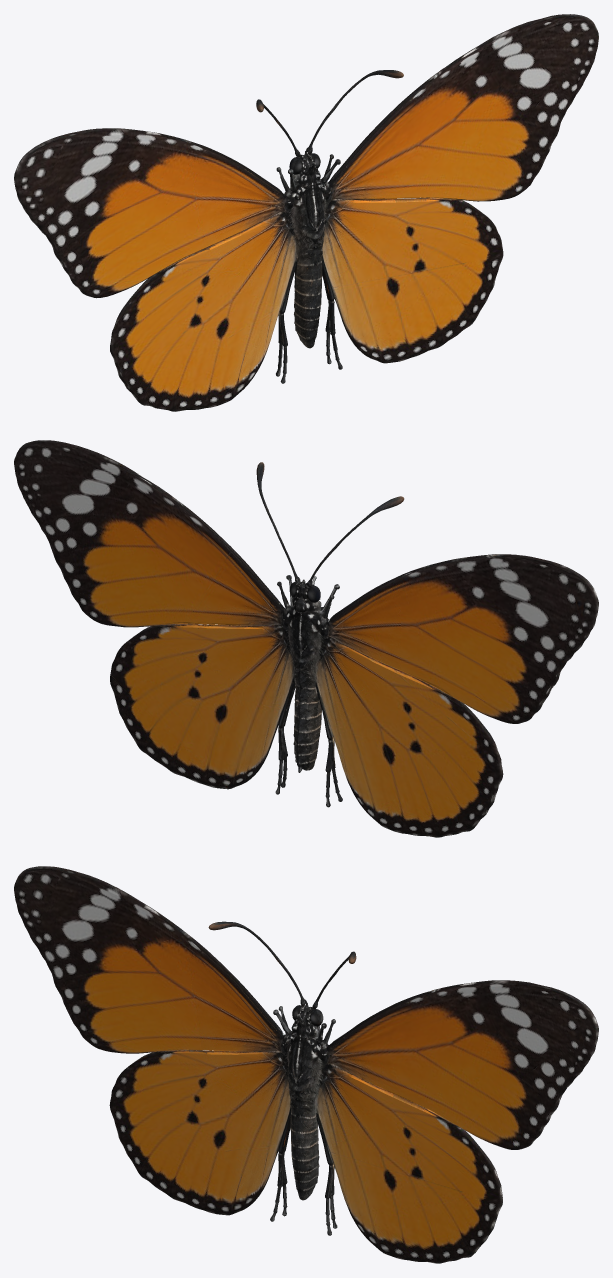
The model's file is african-monarch.glb.
The picture shows the model from 3 angles, top to bottom: view 1: azimuth 30°, elevation 25°; view 2: azimuth 150°, elevation 25°; view 3: azimuth 330°, elevation 25°; orthographic projection.
Bounding box in the file's own units: 1.9 × 0.9734 × 0.199.
1 material, 1 textured.
